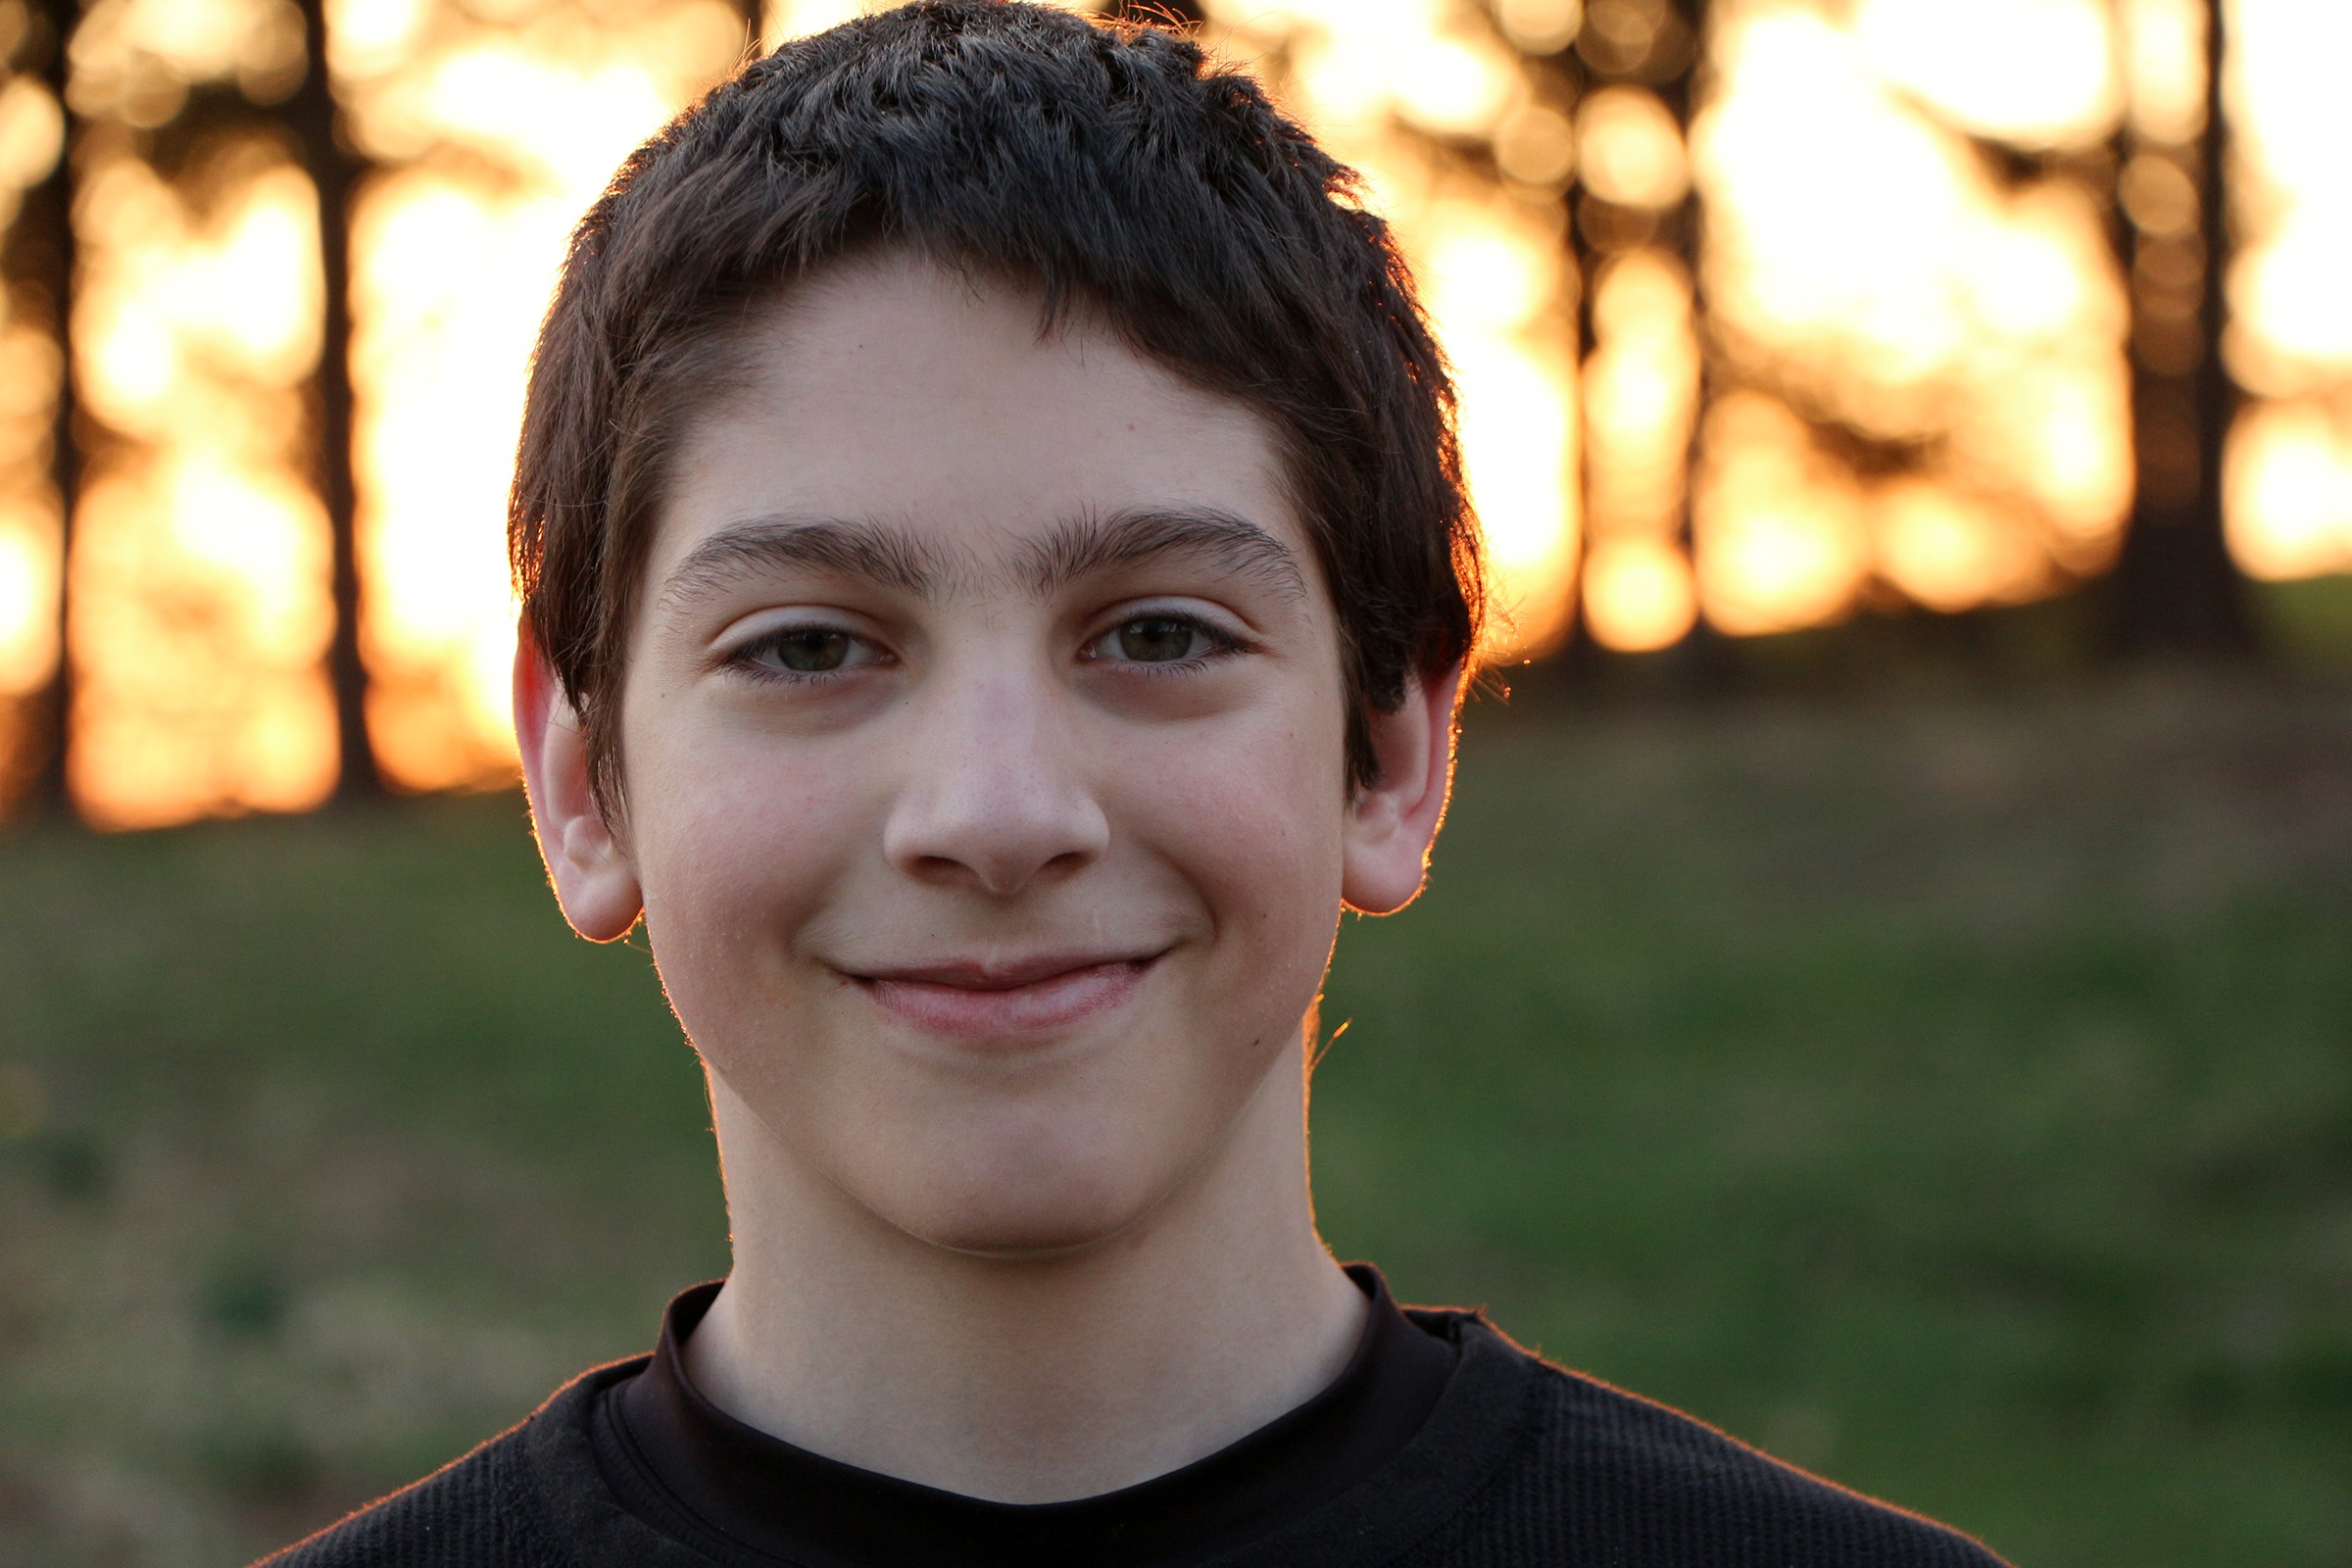without_mask: (501, 481, 1461, 1255)
